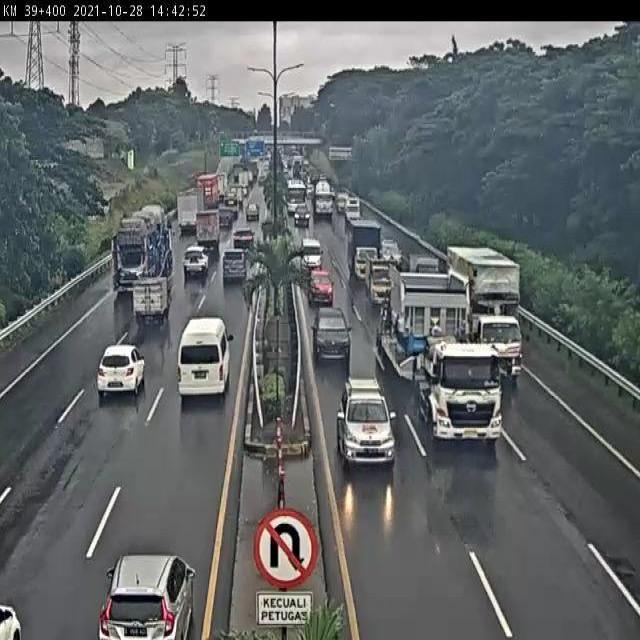car: (98, 553, 194, 640), (333, 376, 396, 463), (176, 320, 232, 400), (96, 343, 145, 399), (312, 308, 353, 361), (308, 269, 335, 307), (221, 248, 248, 285), (378, 237, 403, 275), (183, 247, 209, 280)
truck: (378, 266, 503, 446), (446, 243, 524, 383), (111, 208, 173, 299), (346, 221, 380, 280), (130, 277, 170, 327), (366, 255, 398, 303), (299, 235, 323, 273)
